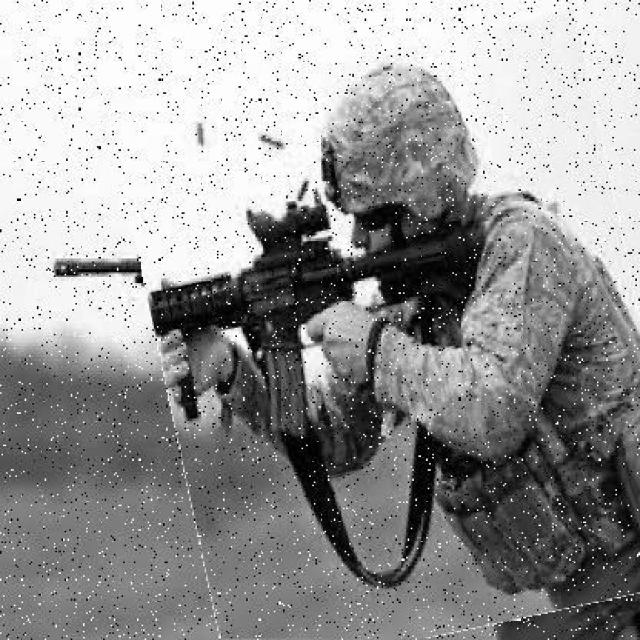Person: (135, 32, 640, 639)
